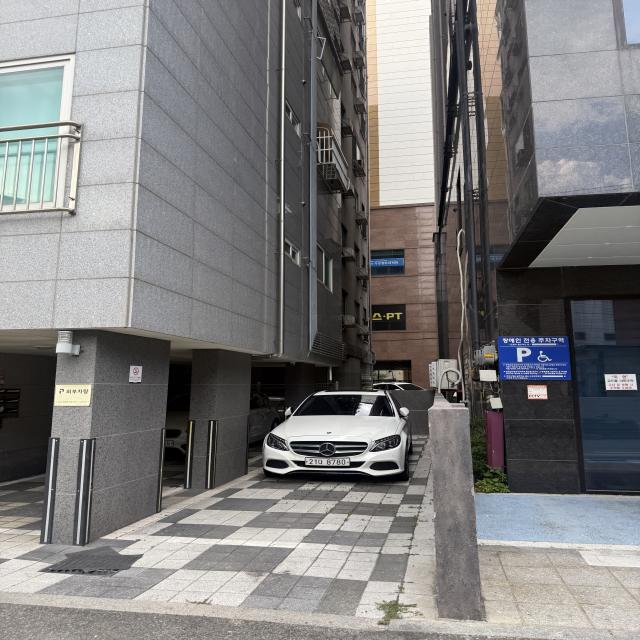car: (248, 378, 421, 510)
